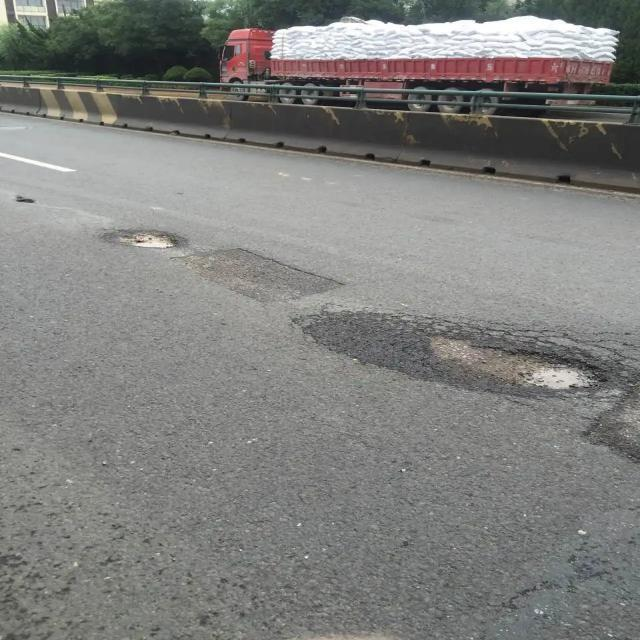Pothole: (292, 306, 618, 399), (152, 245, 347, 310), (98, 224, 186, 251)
